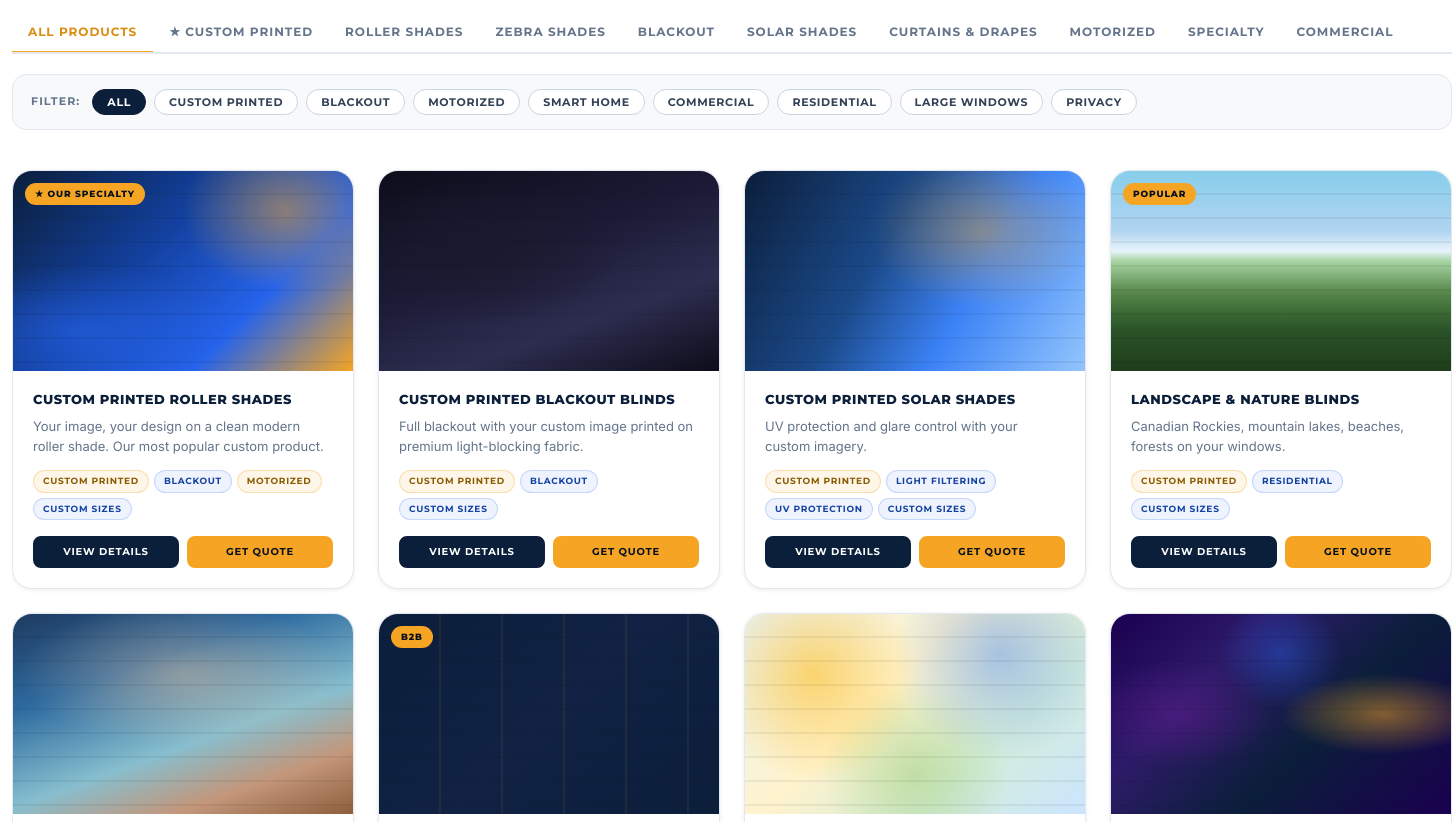
Test: ShopCatalog component › shows the "no products match" empty state and can clear filters
This screenshot has width=1452, height=822.
Combine a tab and filter that share no products
Click the button "Zebra Shades": {"x": 551, "y": 33} [479,12,622,54]
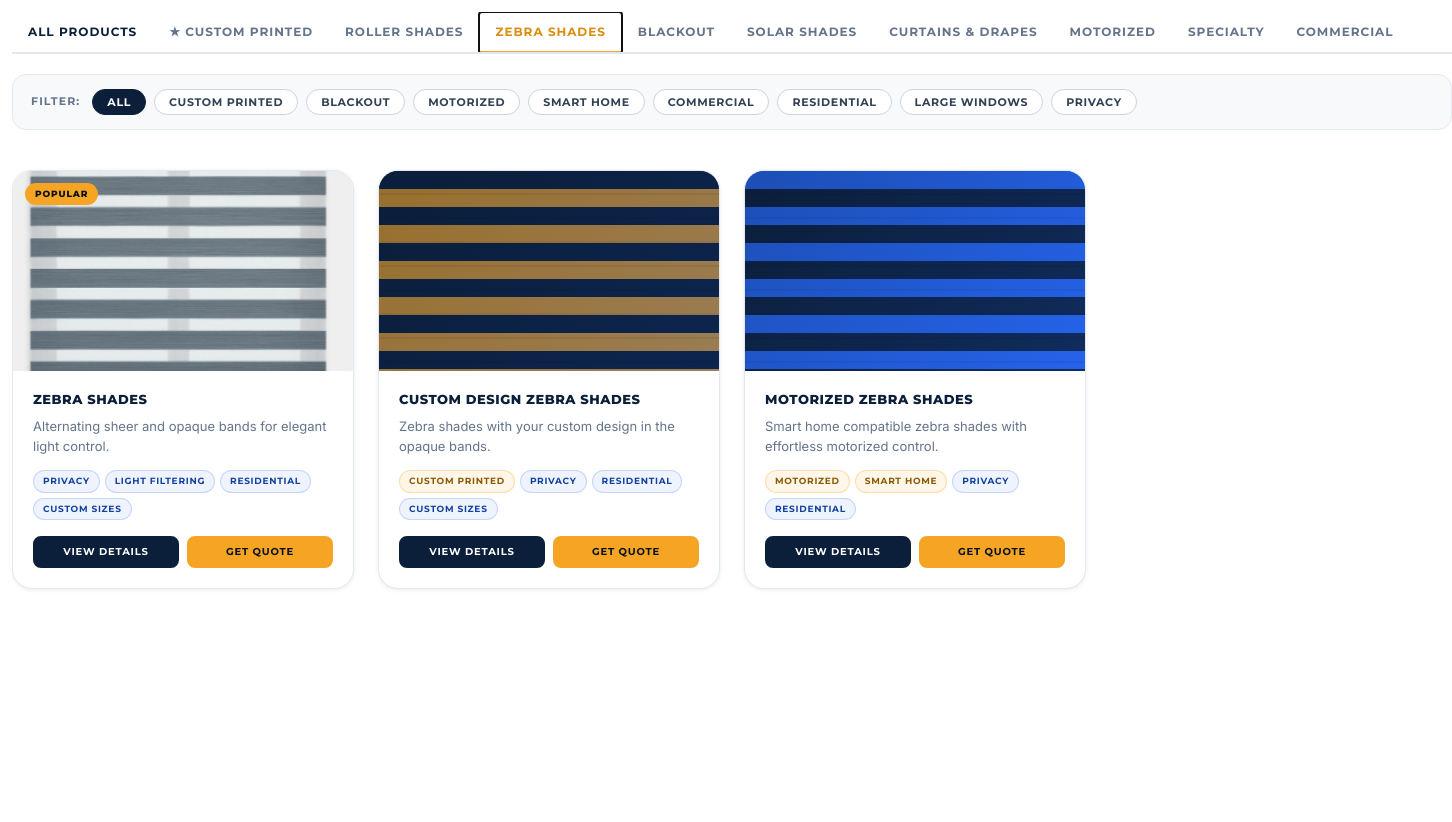
Click the button "Large Windows": {"x": 971, "y": 102} [900,89,1043,115]
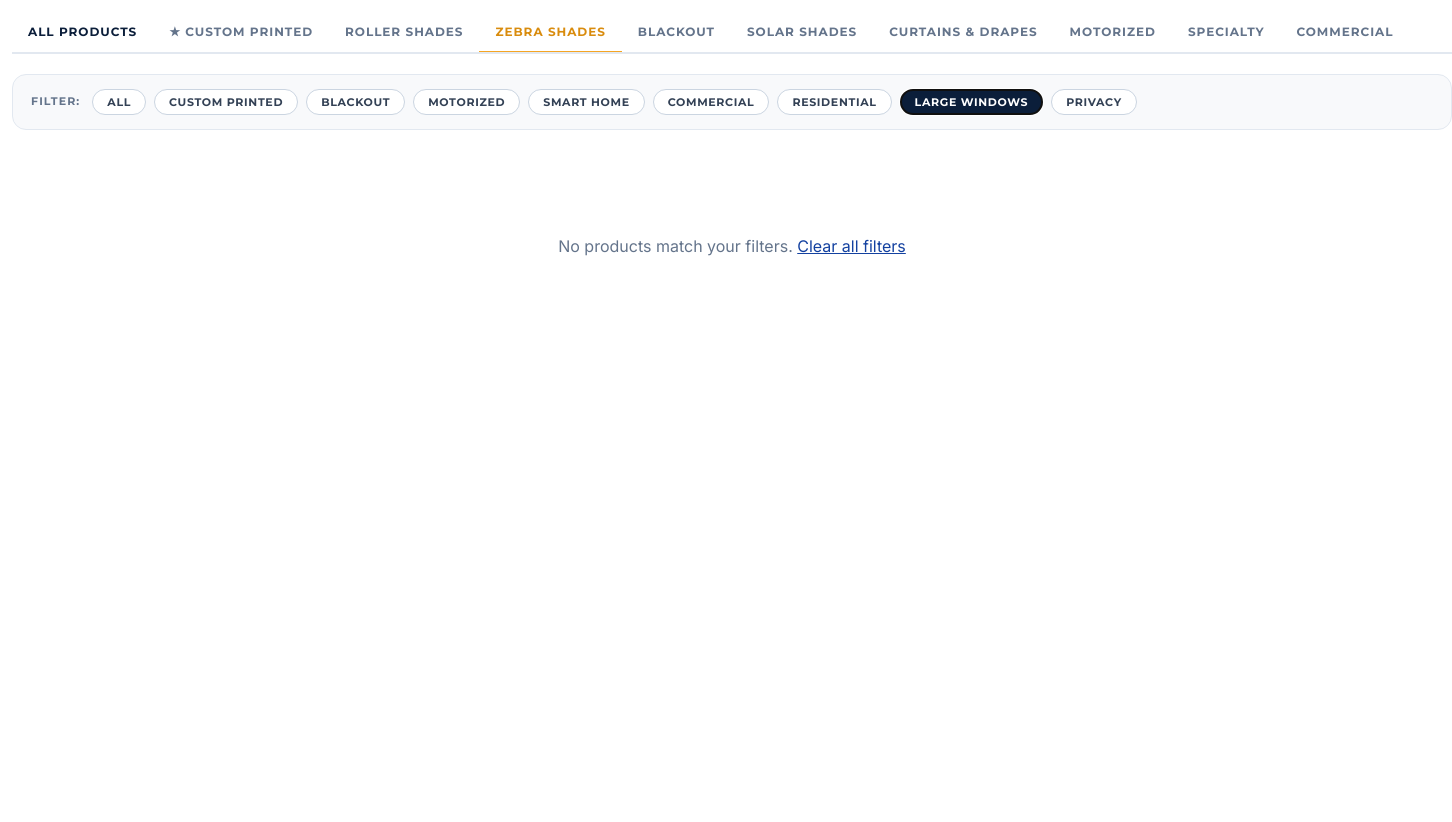
Expected: the text "No products match your filters. Clear all filters" is shown, [558,236,906,256]
Click the button "Clear all filters": {"x": 852, "y": 246} [797,236,906,256]
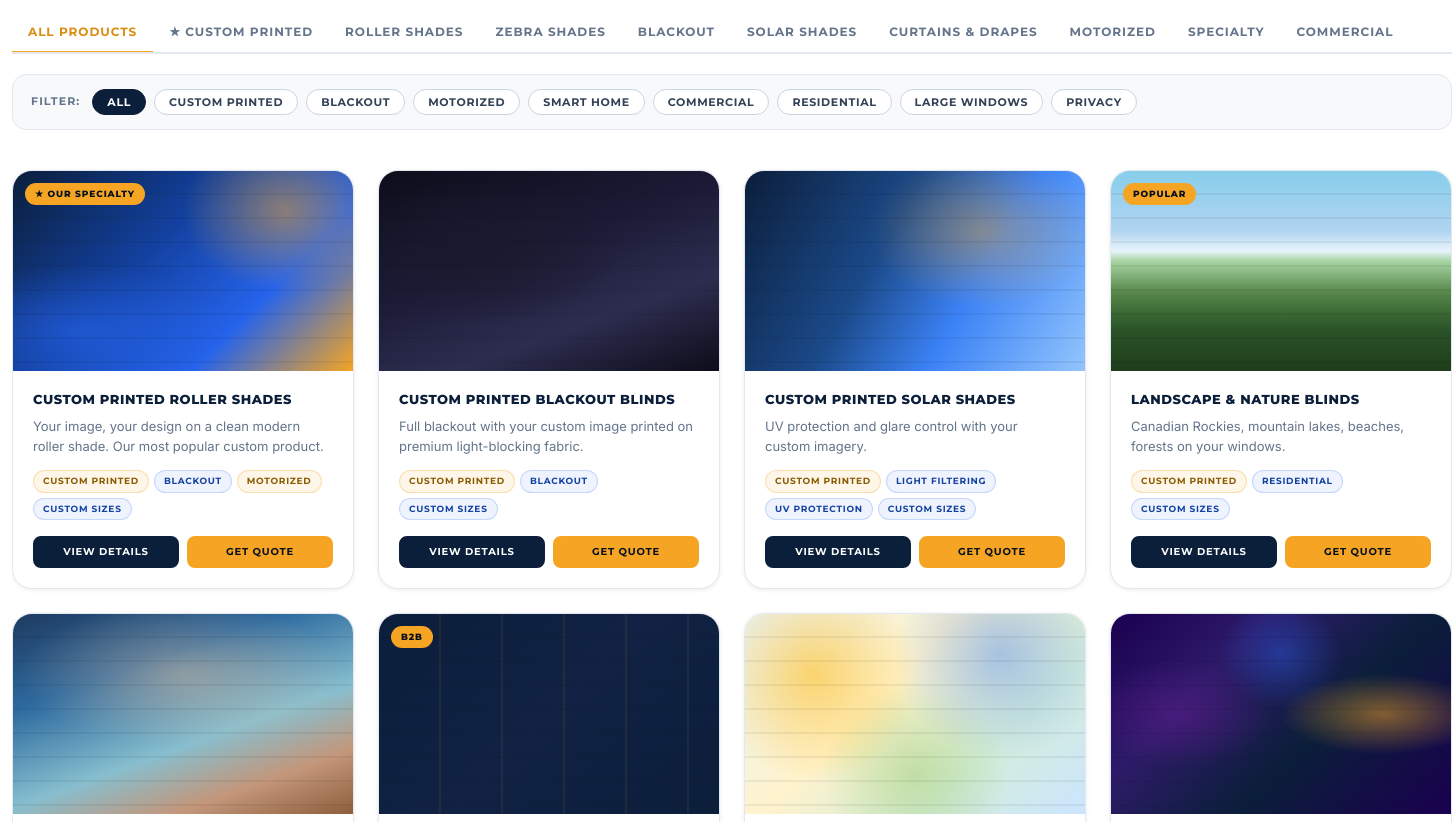
Expected: the heading "Custom Printed Roller Shades" is shown, [33,391,333,408]
